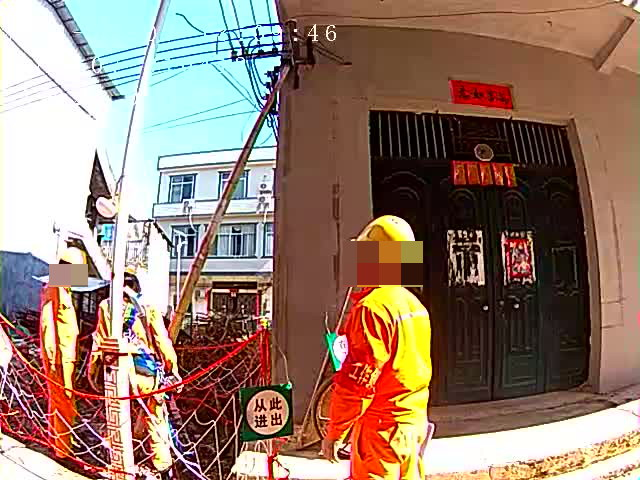halt: (350, 214, 418, 274), (56, 247, 88, 287)
hand: (319, 437, 344, 464)
inear: (357, 246, 378, 278)
intosign: (239, 386, 293, 442)
person: (315, 209, 438, 480), (87, 266, 185, 480), (35, 243, 92, 457)
worksign: (324, 329, 349, 371)
ydownsuit: (129, 374, 177, 480), (346, 431, 430, 480), (45, 373, 79, 454)
yupsuit: (328, 277, 432, 426), (86, 295, 180, 374), (38, 273, 82, 361)
